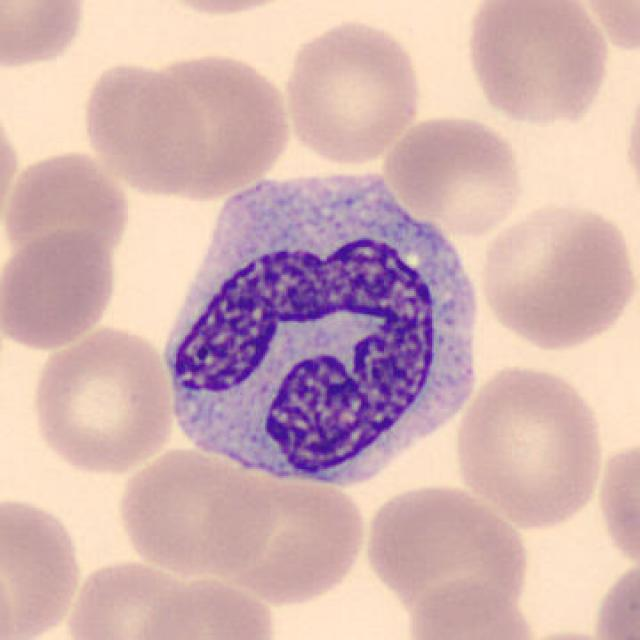Monocyte: (153, 157, 494, 497)
RBC: (194, 455, 370, 608), (450, 360, 608, 530), (474, 195, 636, 352), (130, 46, 293, 201), (359, 479, 533, 619), (25, 322, 179, 478), (279, 14, 427, 168), (114, 443, 279, 580), (461, 0, 614, 129), (378, 109, 530, 238), (76, 56, 212, 200), (0, 144, 135, 278), (0, 228, 121, 352), (0, 490, 85, 638), (249, 566, 416, 640), (62, 555, 204, 640), (135, 573, 281, 640), (402, 575, 540, 640), (0, 0, 91, 74), (594, 432, 638, 576), (588, 555, 636, 640), (574, 0, 640, 56), (0, 97, 23, 242), (142, 0, 313, 18), (620, 70, 640, 210)
